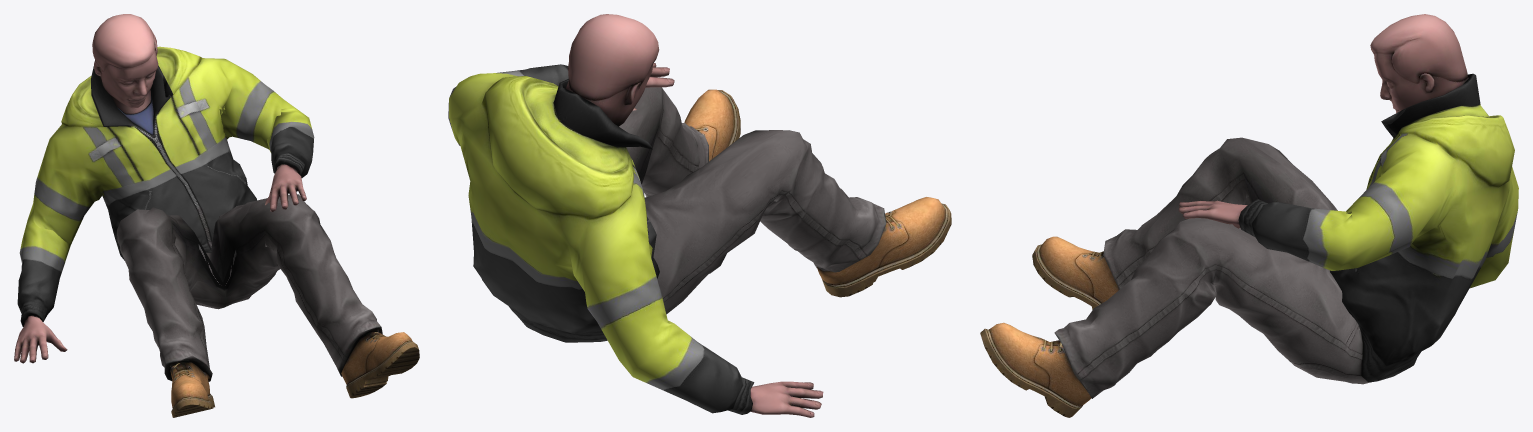
The model's file is rescue_randy.dae.
The picture shows the model from 3 angles, left to right: view 1: azimuth 30°, elevation 25°; view 2: azimuth 150°, elevation 25°; view 3: azimuth 270°, elevation 25°; orthographic projection. The views are drawn at different scales.
Parts seen in each view (by area): view 1: RescueRandy_Sitting; view 2: RescueRandy_Sitting; view 3: RescueRandy_Sitting.
Part boxes in pixels (x1,y1,x2,y2): RescueRandy_Sitting: (14,14,419,417); RescueRandy_Sitting: (448,14,951,417); RescueRandy_Sitting: (980,14,1518,417).
Size of the model in its own units: 7472 by 10184 by 7299.
1 material, 1 textured.
